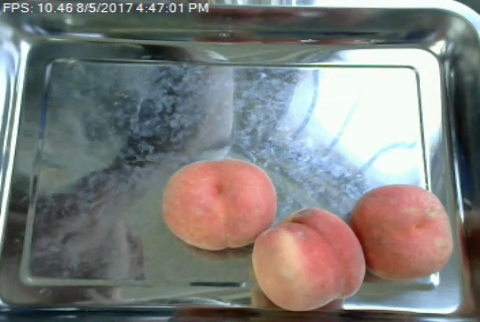Peach: (251, 208, 366, 313), (163, 157, 280, 251), (351, 184, 454, 280)
